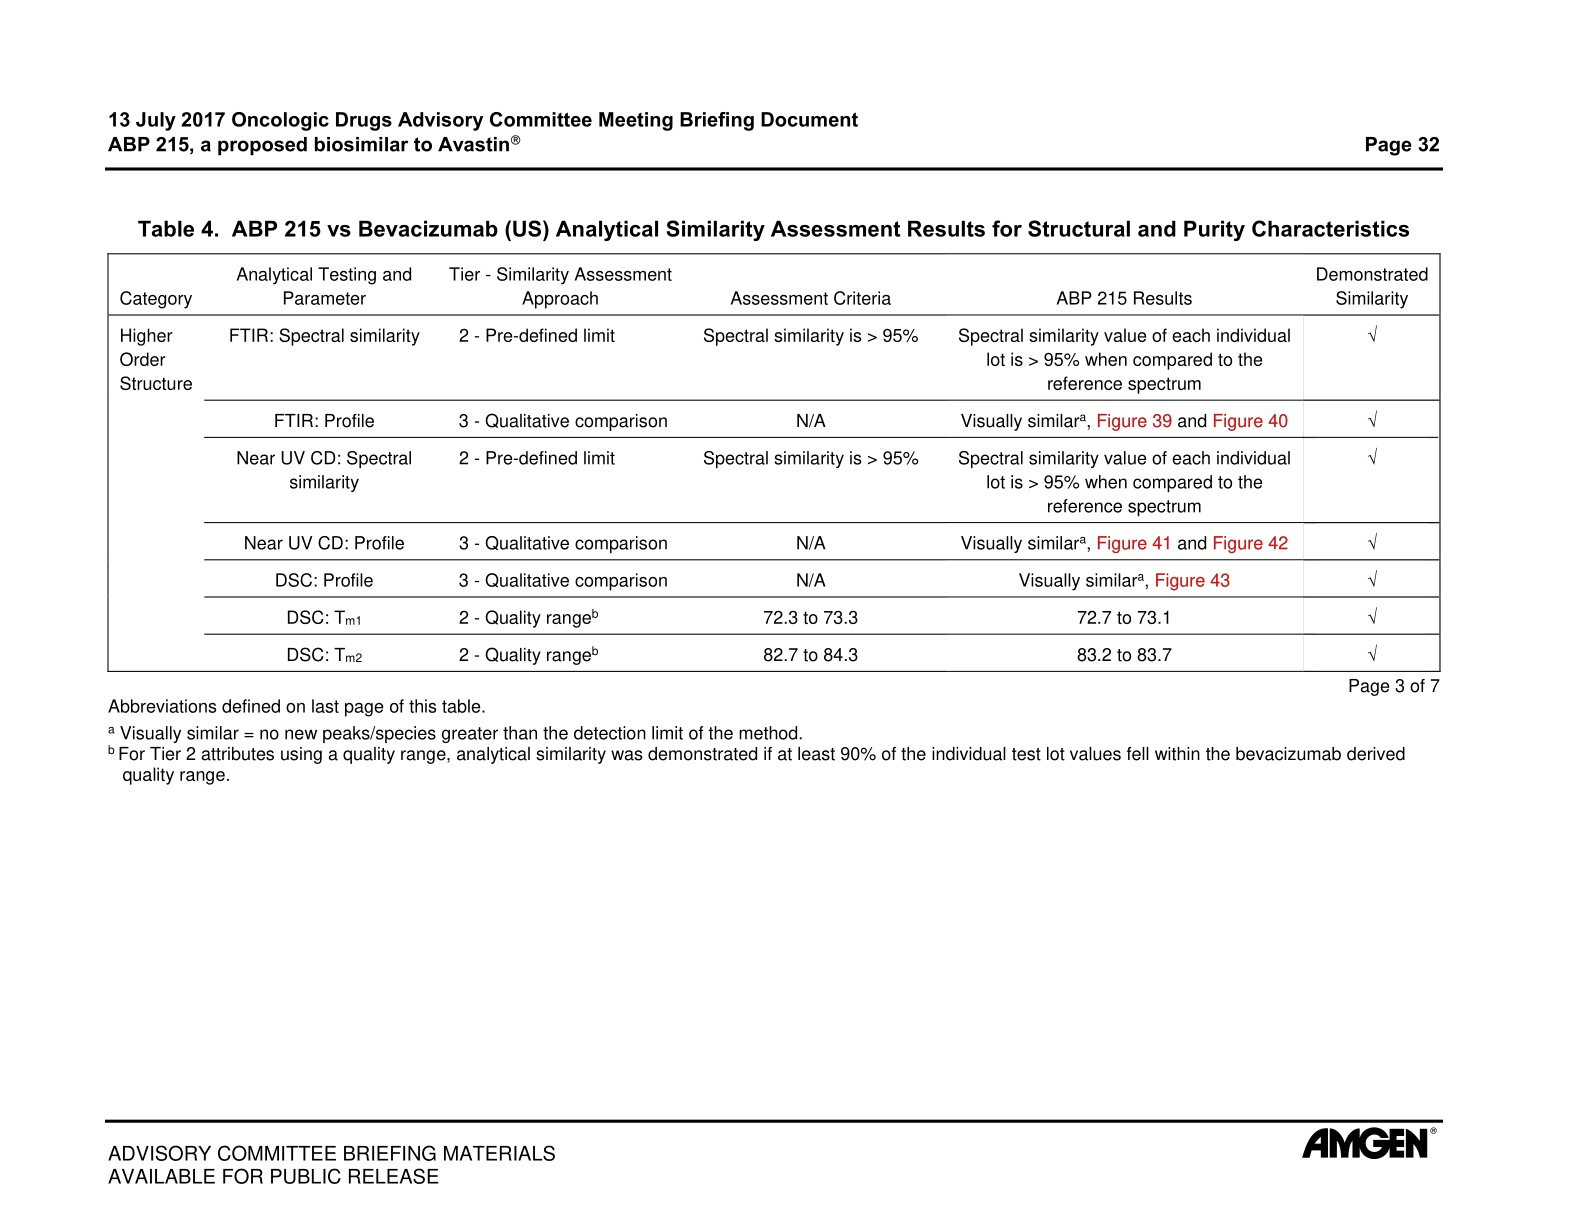partial_lined: (107, 253, 1443, 674)
